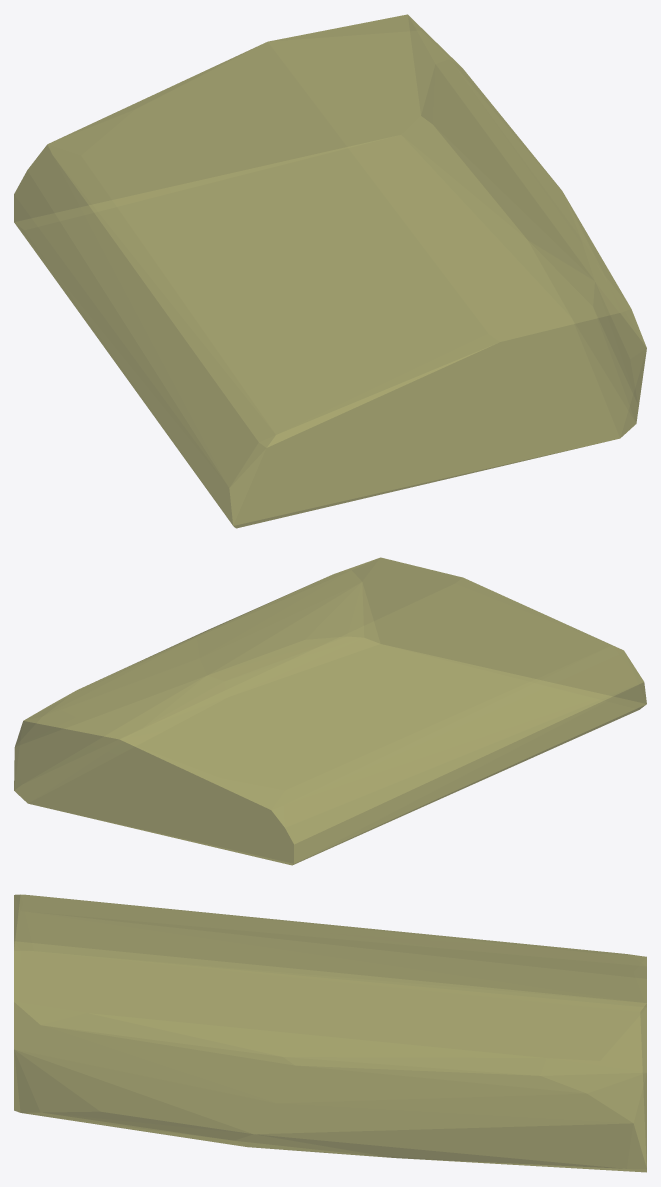
3 renders of one model, top to bottom at view 1: azimuth 30°, elevation 25°; view 2: azimuth 150°, elevation 25°; view 3: azimuth 270°, elevation 25°, orthographic. The views are drawn at different scales.
Visible parts, largest first — view 1: Shape_IndexedFaceSet.006_Shape_IndexedFaceSet.12879; view 2: Shape_IndexedFaceSet.006_Shape_IndexedFaceSet.12879; view 3: Shape_IndexedFaceSet.006_Shape_IndexedFaceSet.12879.
Boxes of the visible parts, x1,y1,x2,y2 form: Shape_IndexedFaceSet.006_Shape_IndexedFaceSet.12879: (14, 14, 646, 528); Shape_IndexedFaceSet.006_Shape_IndexedFaceSet.12879: (14, 557, 646, 865); Shape_IndexedFaceSet.006_Shape_IndexedFaceSet.12879: (14, 894, 646, 1172).
Size of the model in its own units: 0.21 by 0.045 by 0.2375.
